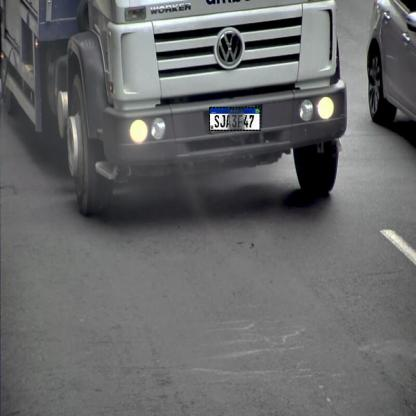PlacaM: (209, 107, 261, 131)
